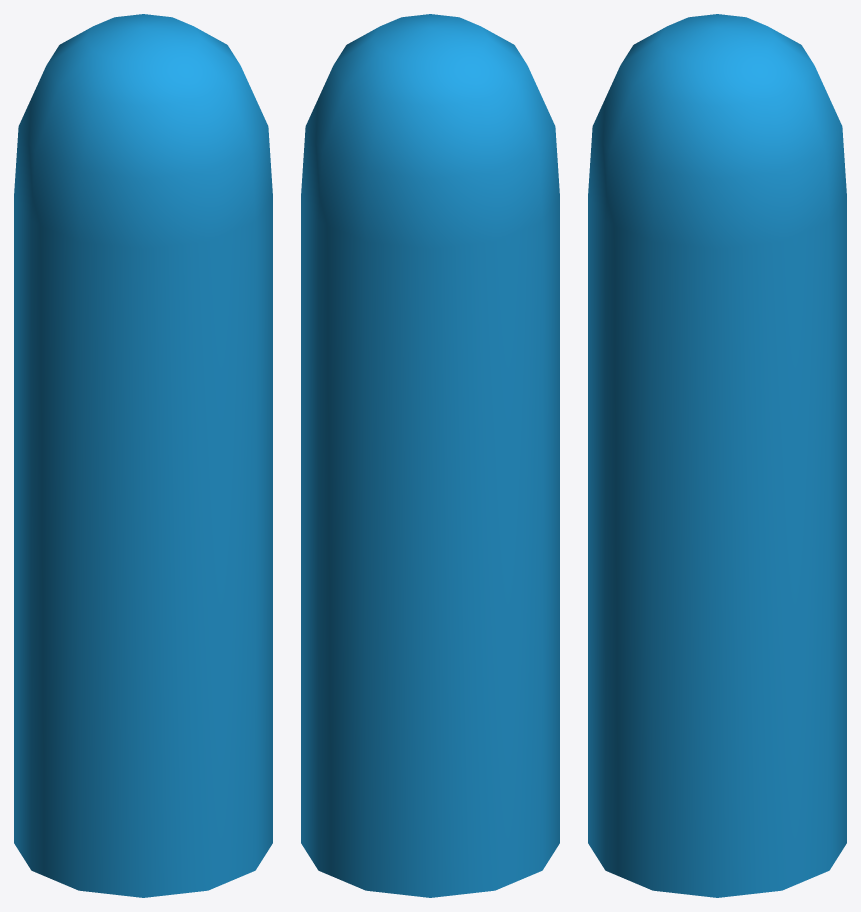
Rendered from SM_Bullet_GD.fbx.
The picture shows the model from 3 angles, left to right: view 1: azimuth 30°, elevation 25°; view 2: azimuth 150°, elevation 25°; view 3: azimuth 270°, elevation 25°; orthographic projection.
Parts seen in each view (by area): view 1: SM_Bullet_GD; view 2: SM_Bullet_GD; view 3: SM_Bullet_GD.
Part boxes in pixels (x1,y1,x2,y2): SM_Bullet_GD: (14, 14, 272, 897); SM_Bullet_GD: (301, 14, 559, 897); SM_Bullet_GD: (588, 14, 846, 897).
Size of the model in its own units: 1.22 by 4.25 by 1.22.
